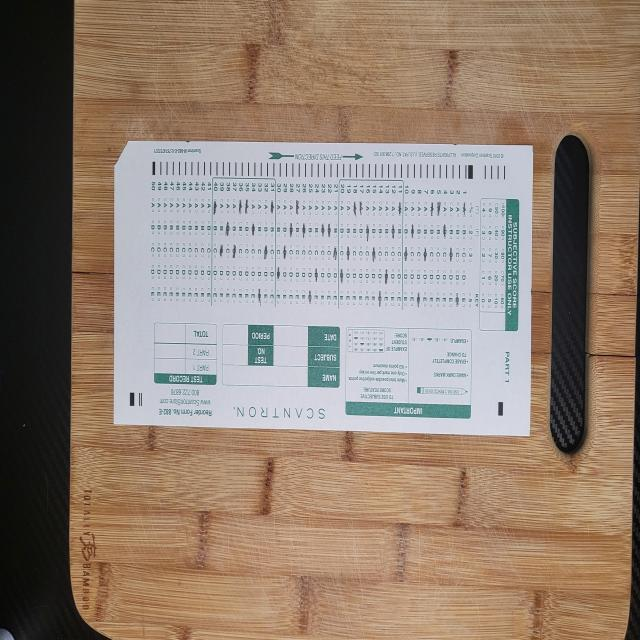scantron: (113, 139, 534, 436)
